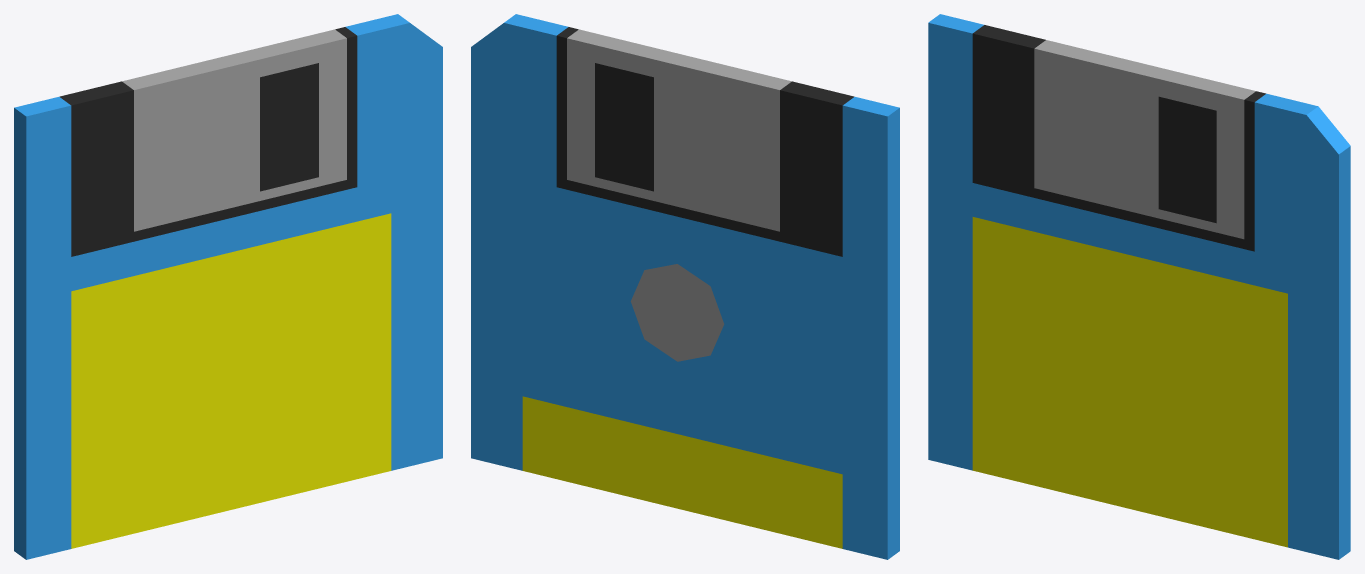
File: floppy_lightblue.FBX
3 renders of one model, left to right at view 1: azimuth 30°, elevation 25°; view 2: azimuth 150°, elevation 25°; view 3: azimuth 330°, elevation 25°, orthographic.
Parts seen in each view (by area): view 1: floppy_lightblue; view 2: floppy_lightblue; view 3: floppy_lightblue.
Boxes of the visible parts, x1=… form: floppy_lightblue: x1=14, y1=14, x2=442, y2=559; floppy_lightblue: x1=471, y1=14, x2=899, y2=559; floppy_lightblue: x1=928, y1=14, x2=1350, y2=559.
Bounding box in the file's own units: 54.75 × 55.69 × 2.75.
